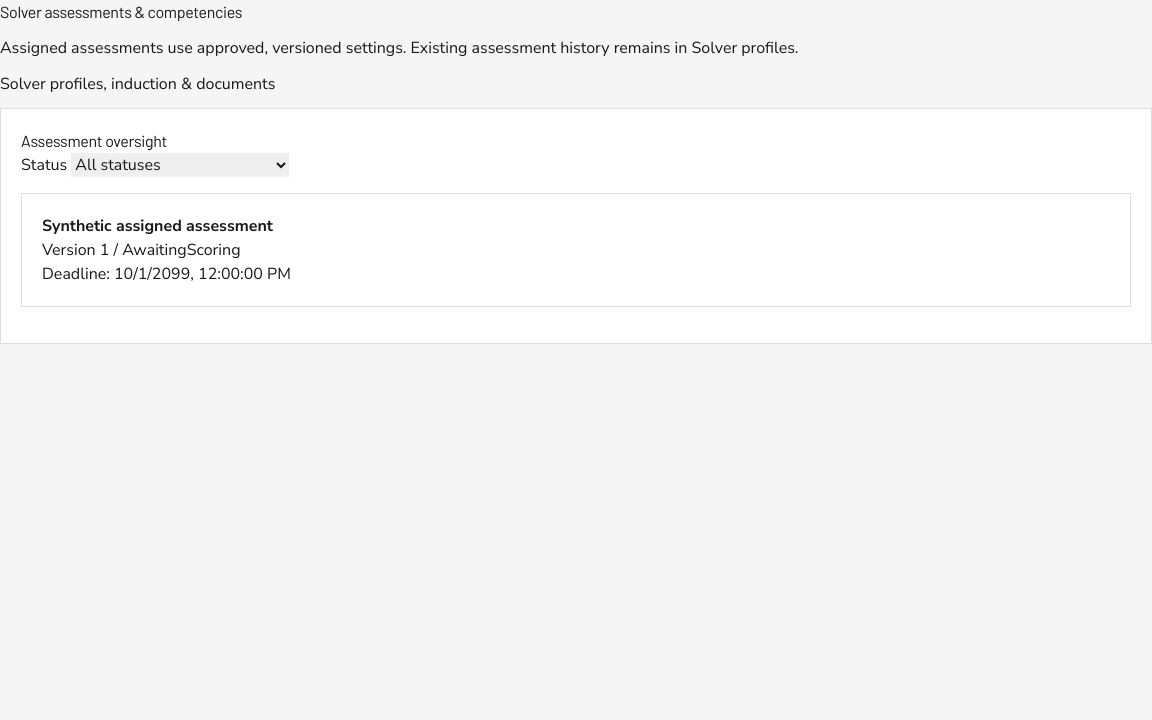
it: assigned assessor gets score controls but cannot release
Click the button at (157, 226), box x1=21 y1=193 x2=1131 y2=307
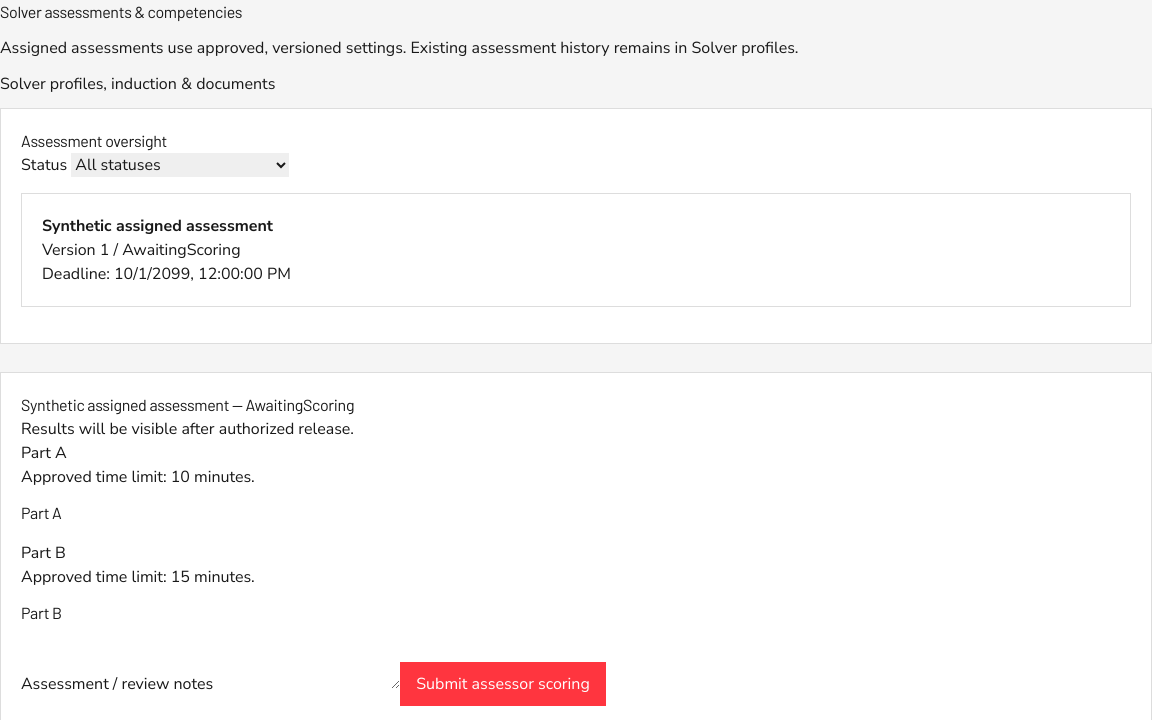
Expected: the text "Submit assessor scoring" is shown, x1=400 y1=662 x2=606 y2=706
